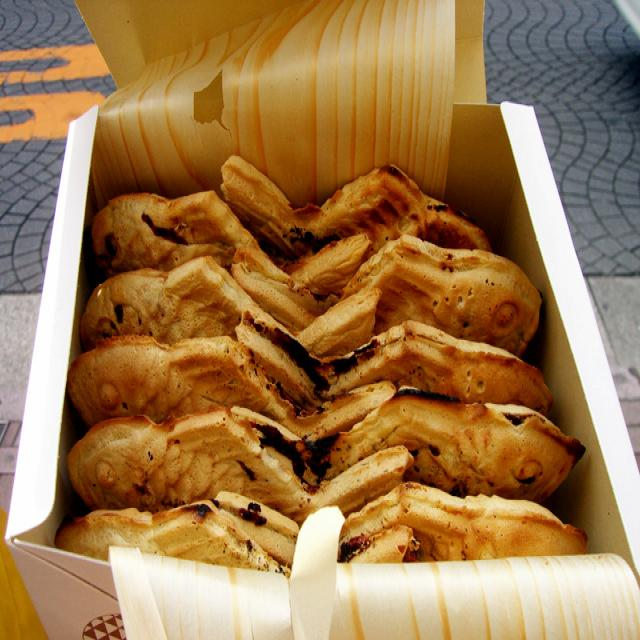熟制海鲜: (65, 149, 593, 568)
